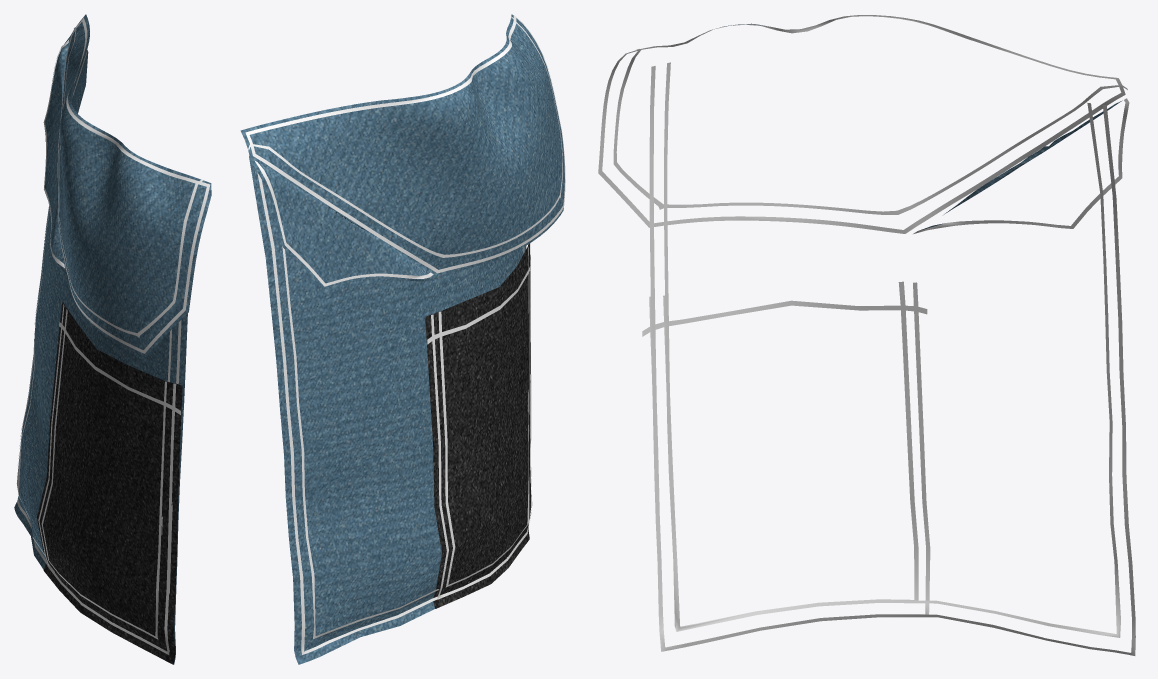
The model's file is Pants_Pocket_Left_V1.glb.
3 renders of one model, left to right at view 1: azimuth 30°, elevation 25°; view 2: azimuth 150°, elevation 25°; view 3: azimuth 270°, elevation 25°, orthographic. The views are drawn at different scales.
Visible parts, largest first — view 1: Pants_Pocket_Left.001, Pants_Rope_Pocket_Left.001; view 2: Pants_Pocket_Left.001, Pants_Rope_Pocket_Left.001; view 3: Pants_Rope_Pocket_Left.001, Pants_Pocket_Left.001.
Part boxes in pixels (box(x1,y1,x2,y2)): Pants_Pocket_Left.001: box(14, 14, 211, 664); Pants_Rope_Pocket_Left.001: box(16, 18, 210, 654); Pants_Pocket_Left.001: box(240, 14, 564, 664); Pants_Rope_Pocket_Left.001: box(245, 15, 565, 654); Pants_Rope_Pocket_Left.001: box(598, 15, 1135, 655); Pants_Pocket_Left.001: box(722, 23, 1122, 230).
Size of the model in its own units: 0.0803 by 0.2848 by 0.22.
Materials: 2 (2 with a texture image).
